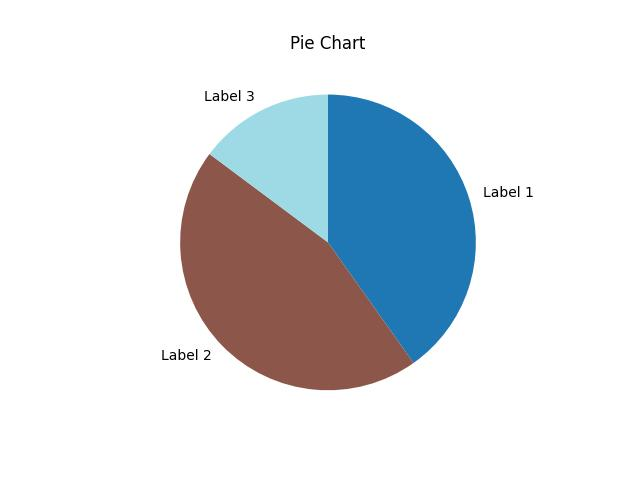sector: (179, 155, 413, 390), (326, 92, 475, 363), (209, 93, 329, 241)
